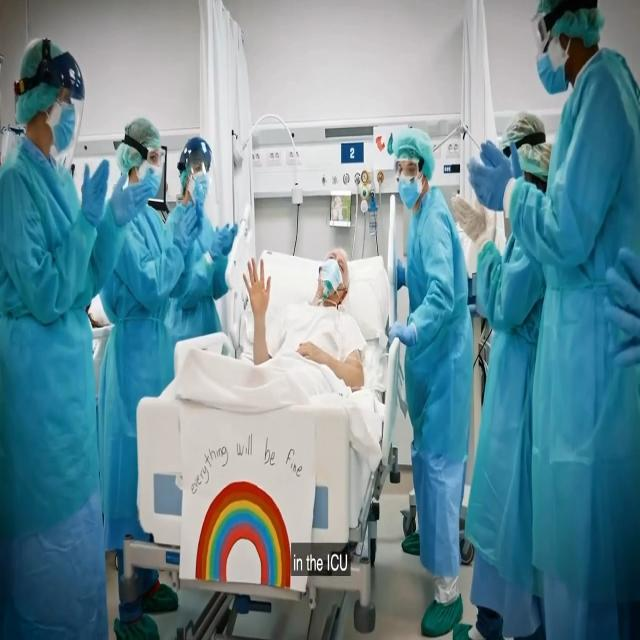Movement-Yes: (240, 225, 374, 406)
